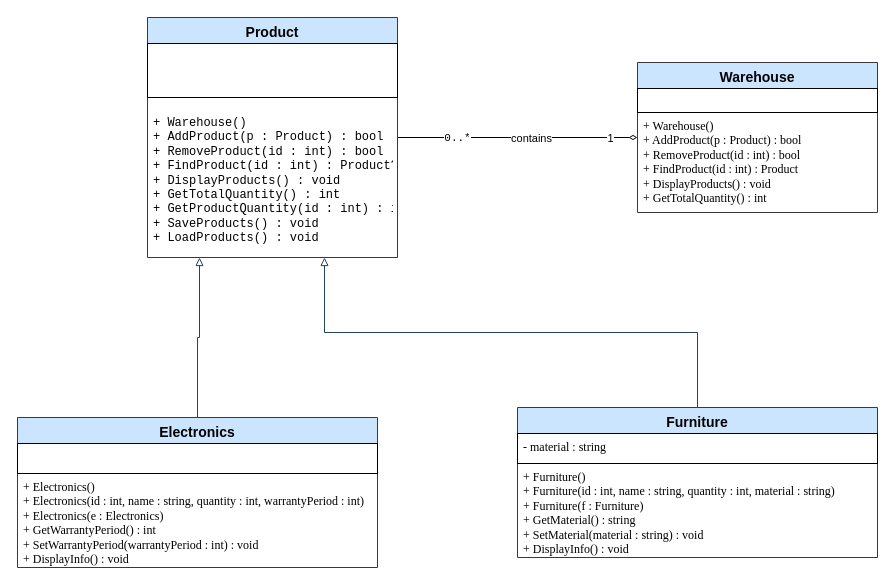
Image size: 895x588. Some labels were removed from this diagram. The centre of each missing label's shape, as x and y in pixels:
"- id : int - name : string - quantity : int" goes at point 272,70.
"- products : List<Product>" goes at point 757,100.
"- warrantyPeriod : int" goes at point 197,458.
